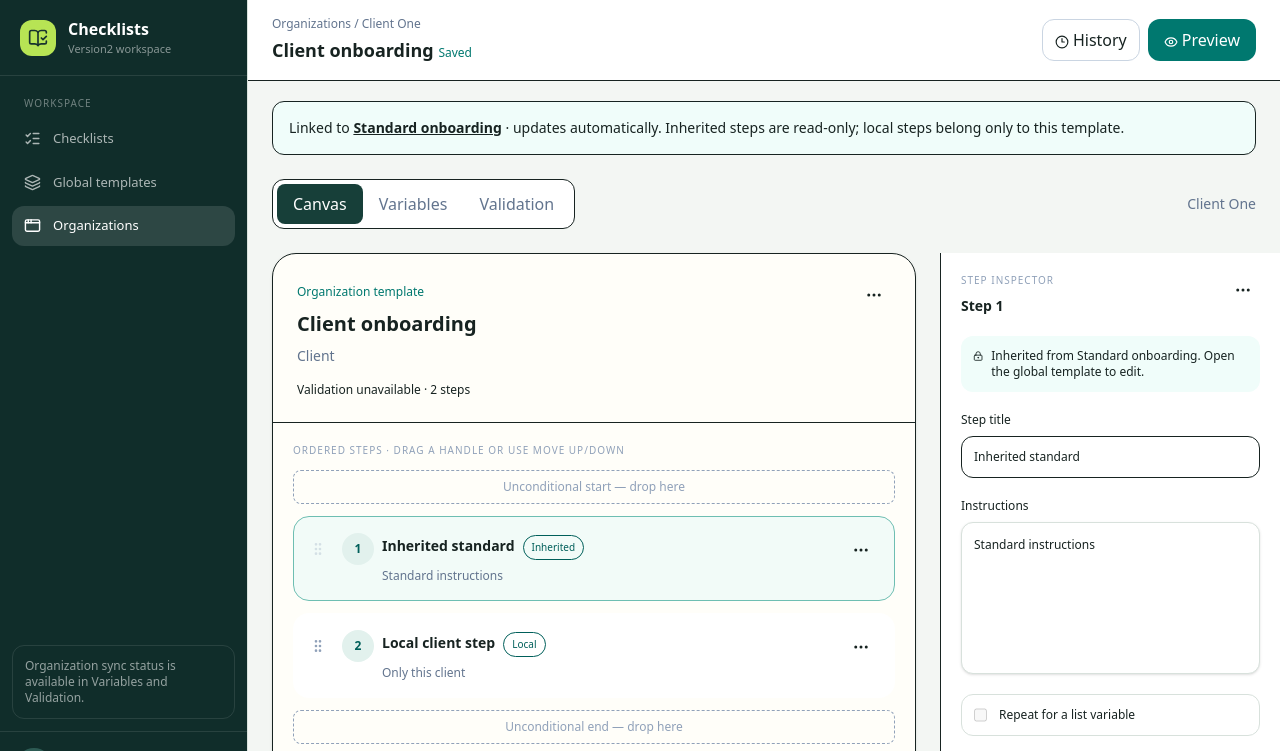
Test: new template authoring › shows approved per-record tokens after selecting Applications and saves an inserted field
Click the button "Local client step Local Only this client" at (439, 642), box x1=382 y1=630 x2=836 y2=681
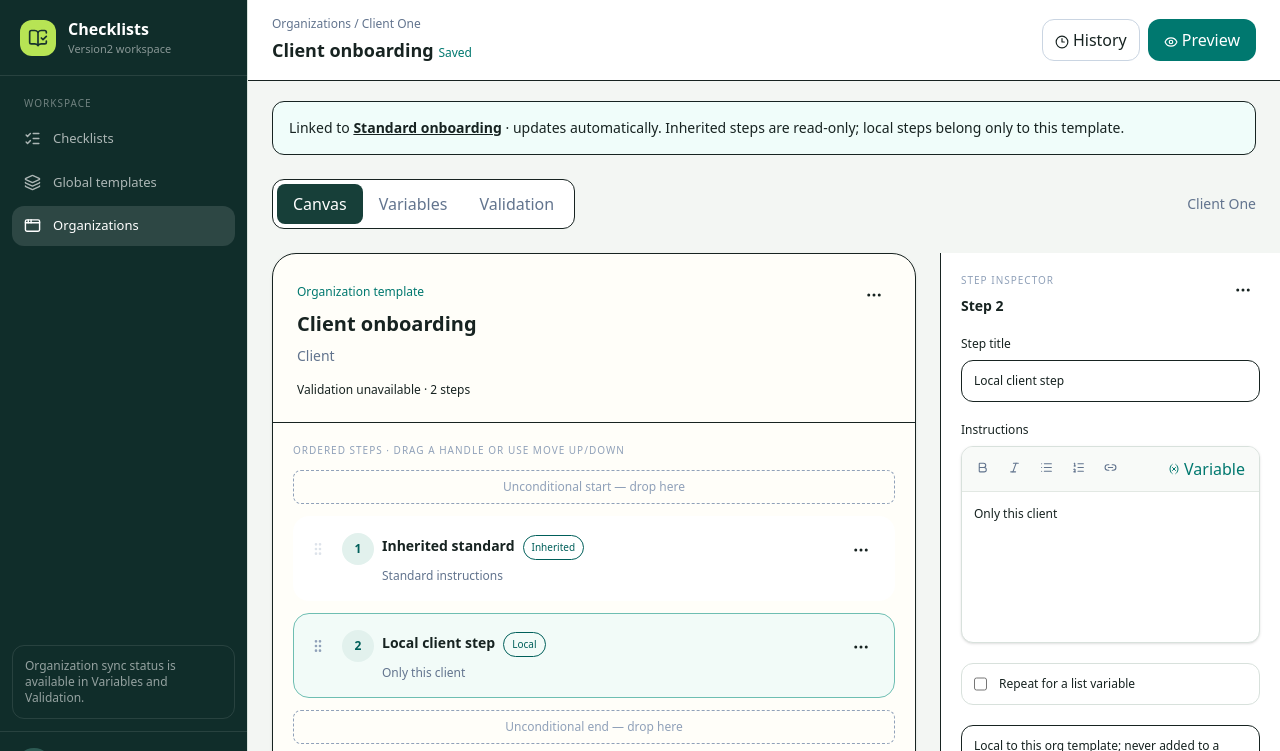
Click the checkbox labelled "Repeat for a list variable" at (980, 684), box x1=974 y1=676 x2=987 y2=692
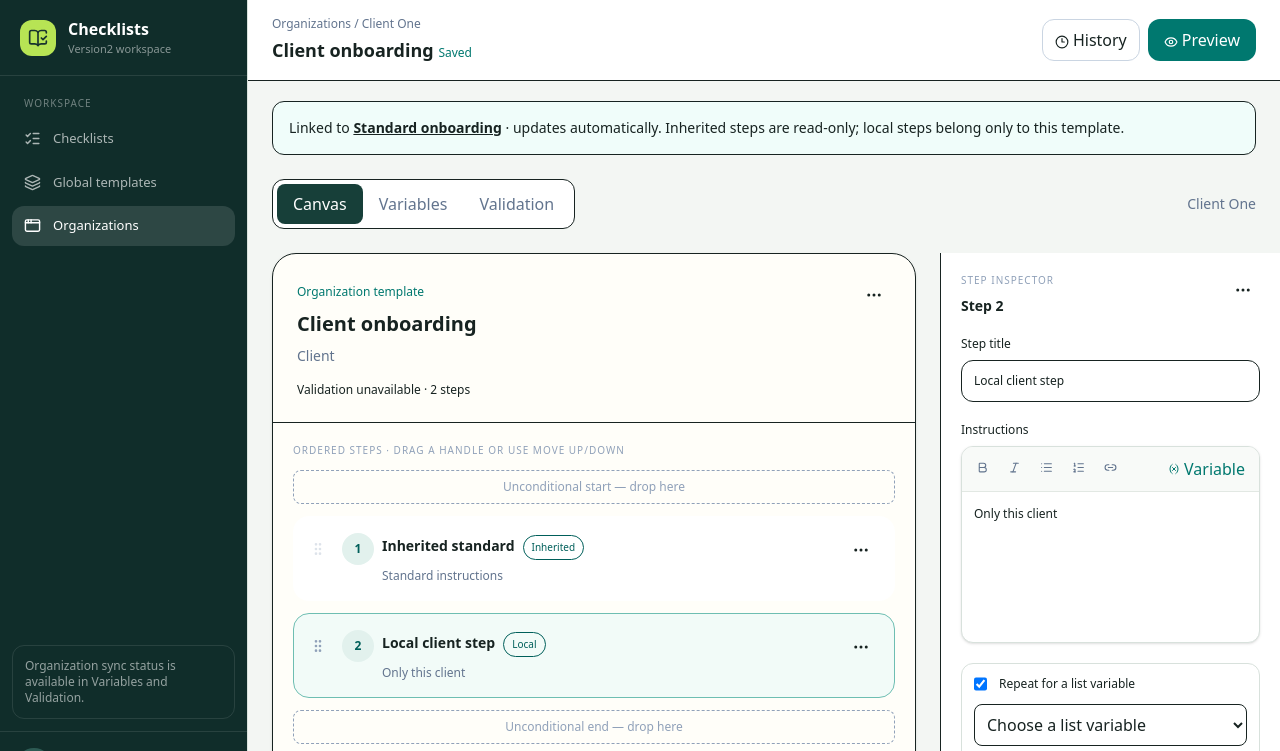
Select "Applications (org.applications)" in the dropdown named "Repeat list variable" at (1110, 725), box x1=974 y1=704 x2=1247 y2=746
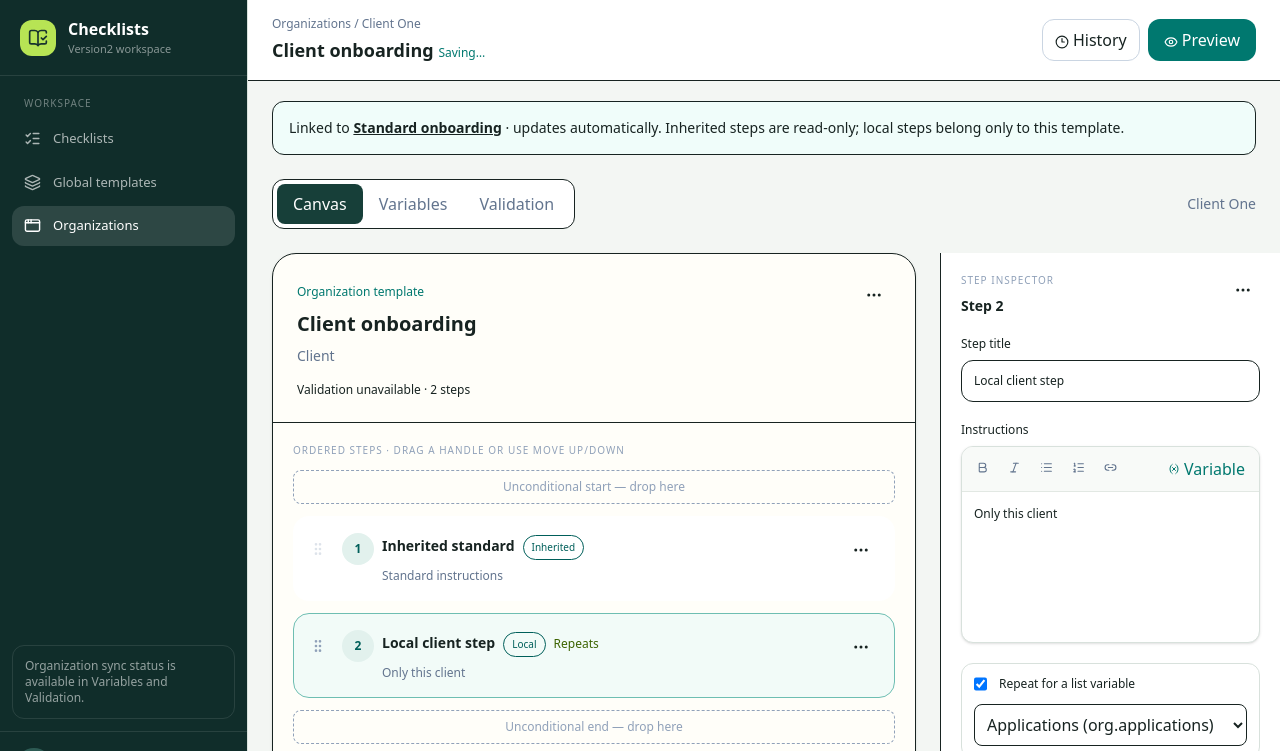
Click the button "Variable" at (1206, 469), box x1=1160 y1=453 x2=1253 y2=485
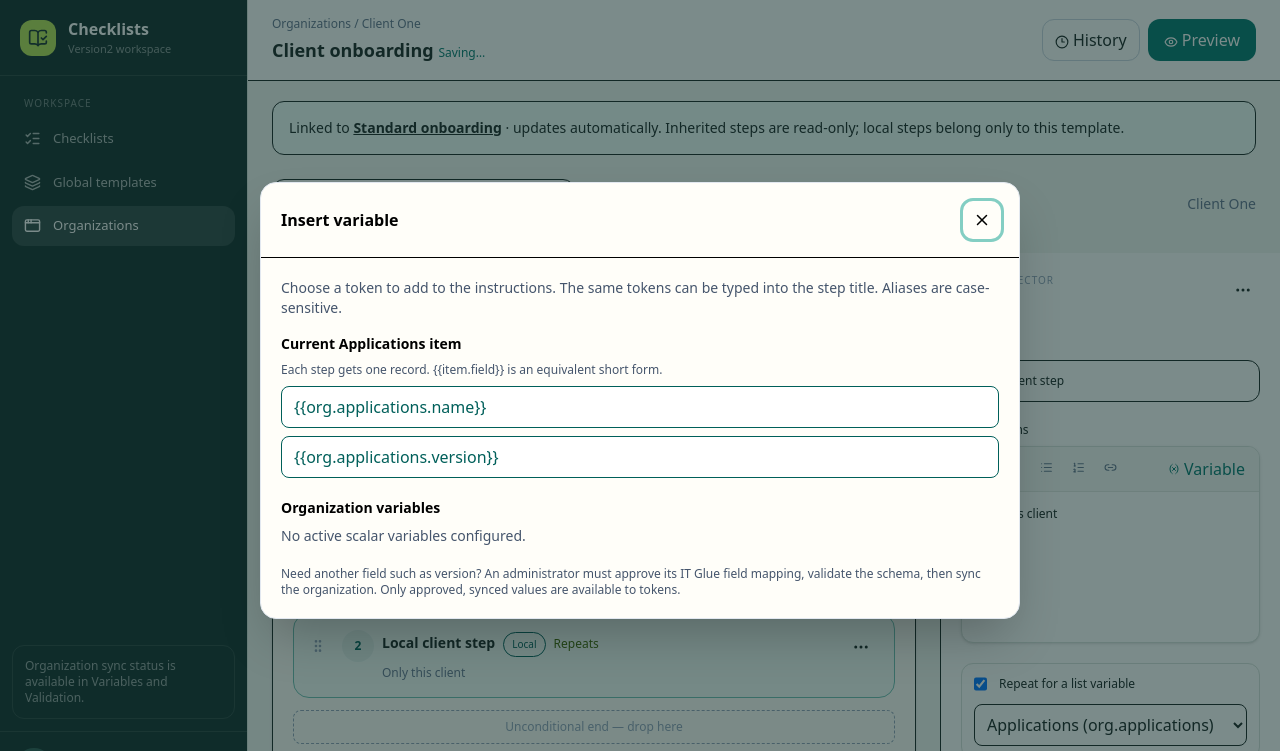
Expected: the element named "Repeated item fields" is shown, x1=281 y1=334 x2=999 y2=478
Click the button "{{org.applications.version}}" at (396, 456), box x1=281 y1=436 x2=999 y2=478
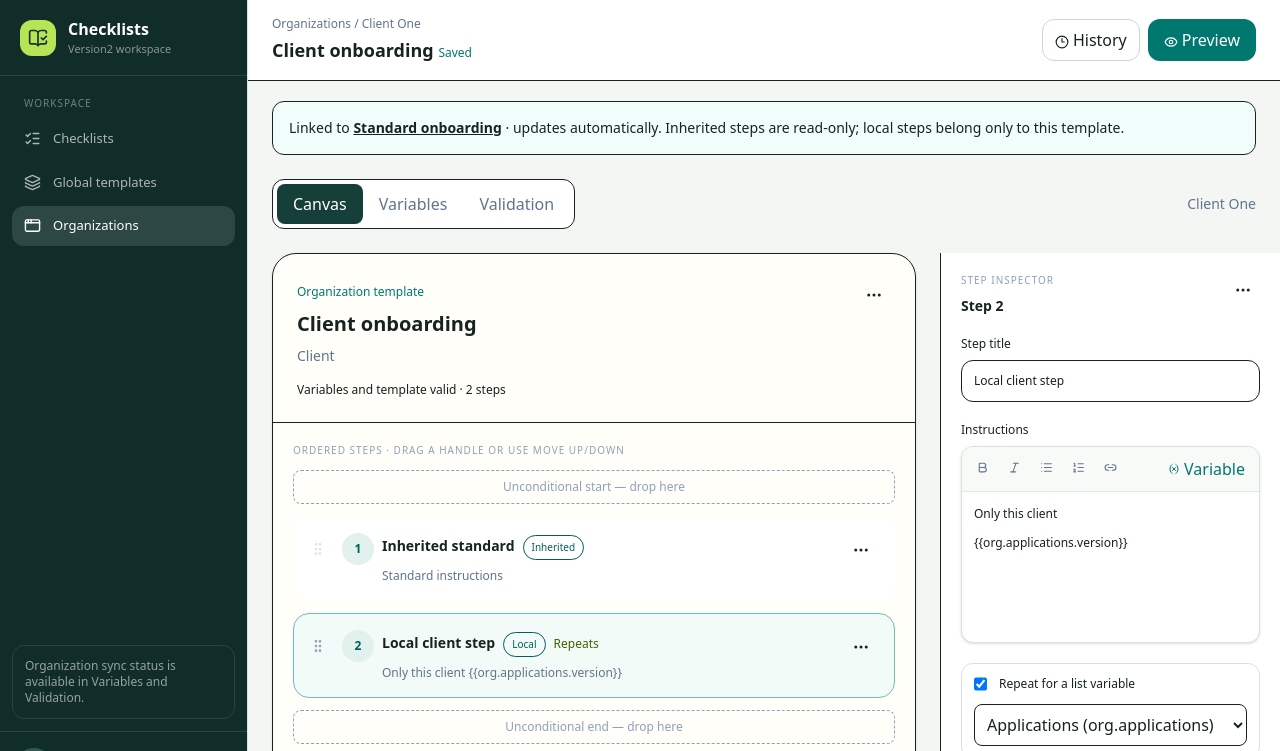
Expected: the heading "Insert variable" is gone
